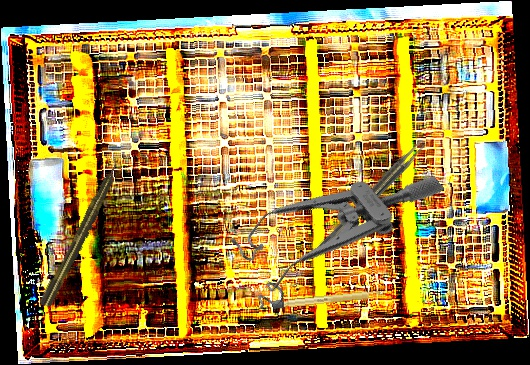Handpiece: (37, 156, 126, 310)
Scalpel Handle: (271, 289, 386, 310)
Speculum: (215, 114, 445, 327)
Tissue Forceps: (313, 137, 429, 254)
